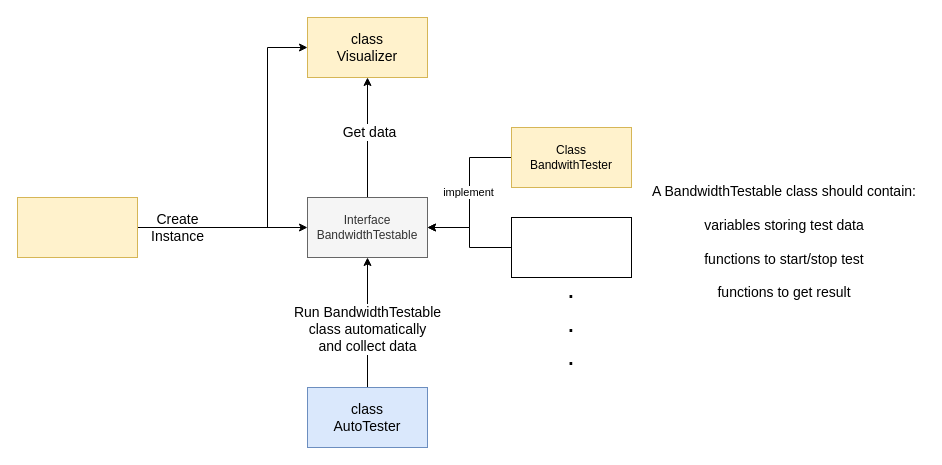
This 942x465 diagram has some shape labels left out. Each missing label, with the centre of its shape:
Android Activity: the point at 77,227
Class OtherBandwithTester: the point at 571,247
